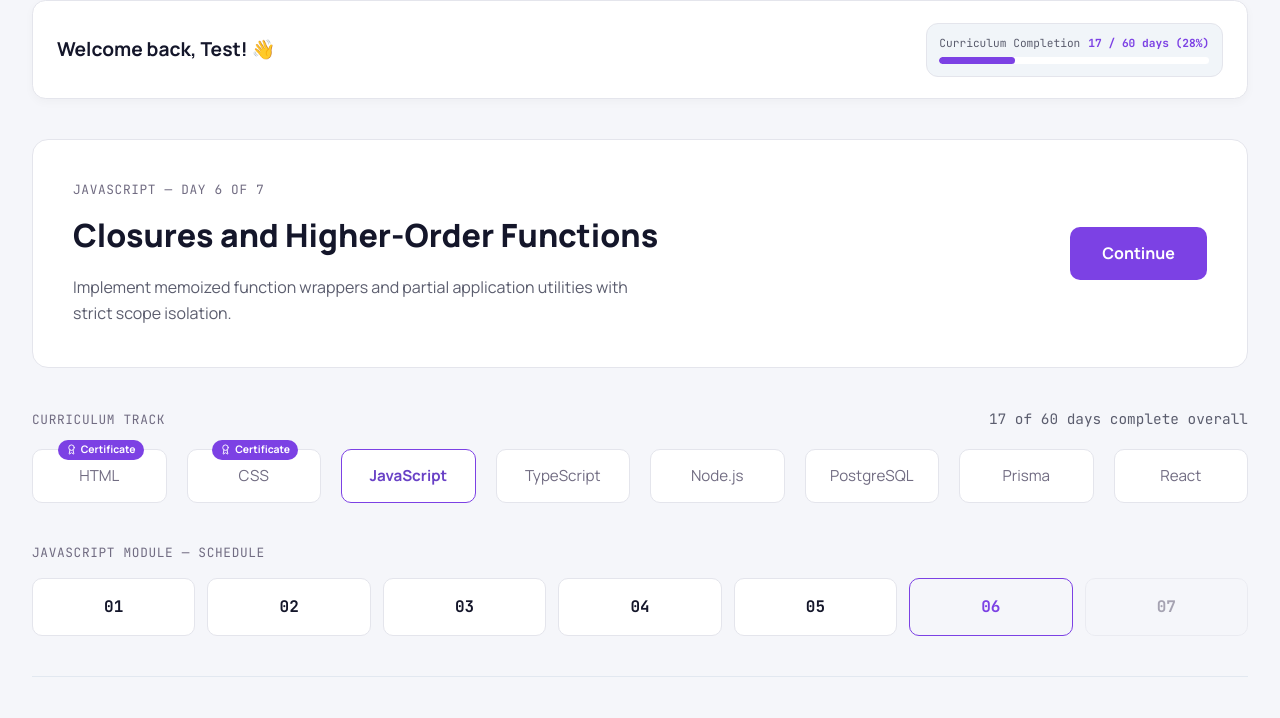
Test: DashboardPage › shows "Loading days..." for a tab that is opened later
Expected: the text "JavaScript Module — Schedule" is shown, [32, 544, 265, 561]
Click the tab "Node.js" at (717, 476), box [650, 449, 784, 503]
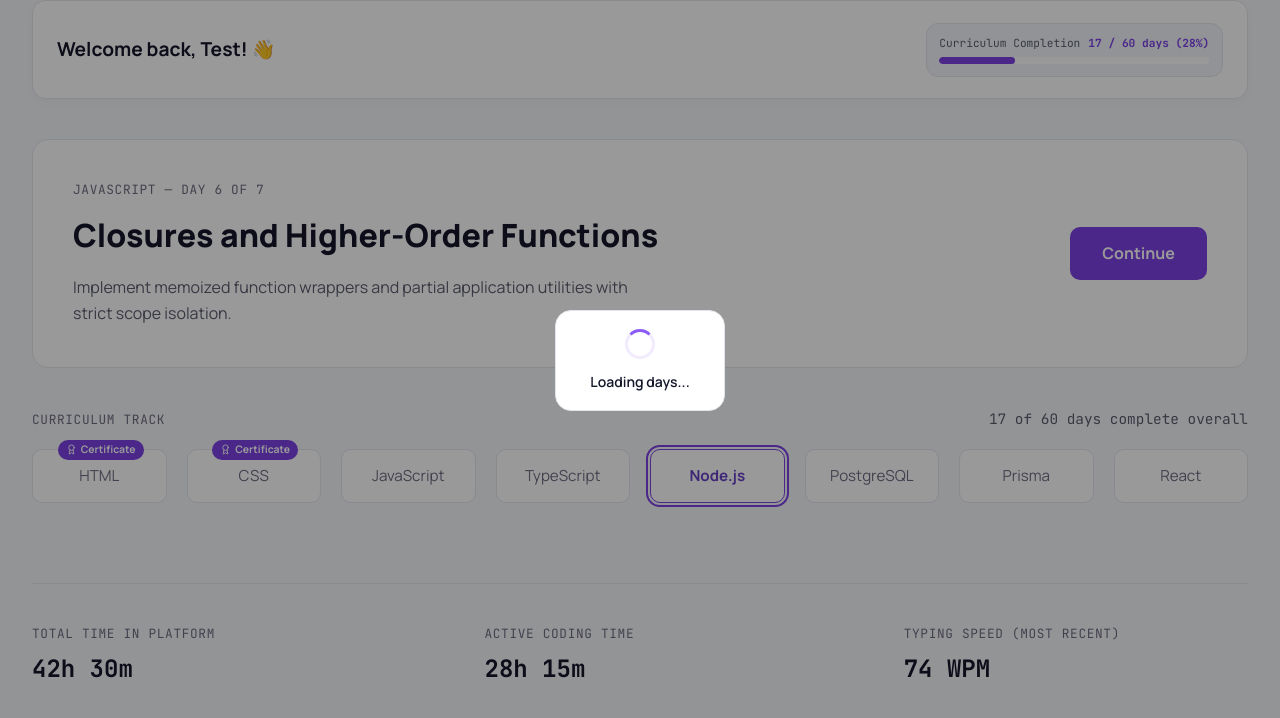
Result: the text "Loading days..." is shown at [590, 370, 690, 392]
